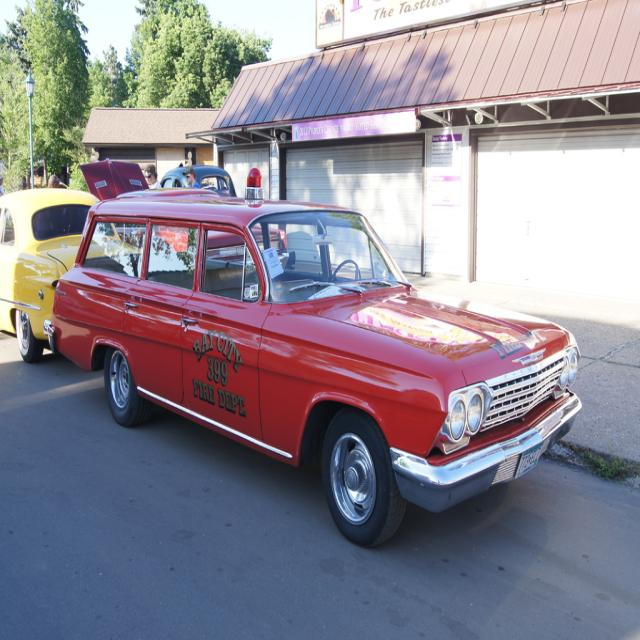car: (31, 191, 593, 549)
